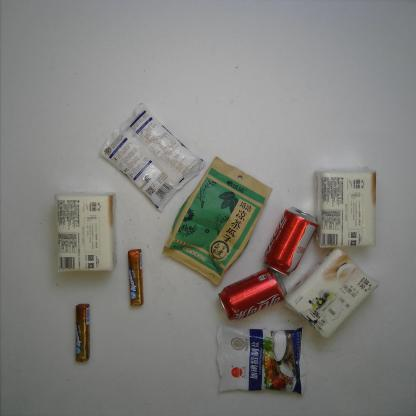Candy: (126, 248, 148, 307), (73, 302, 92, 364)
Dried Food: (159, 154, 274, 290)
Drink: (260, 205, 318, 277), (217, 265, 288, 322)
Seasoner: (96, 100, 205, 213), (212, 322, 309, 398)
Tissue: (281, 246, 380, 341), (50, 190, 121, 274), (313, 166, 378, 250)
